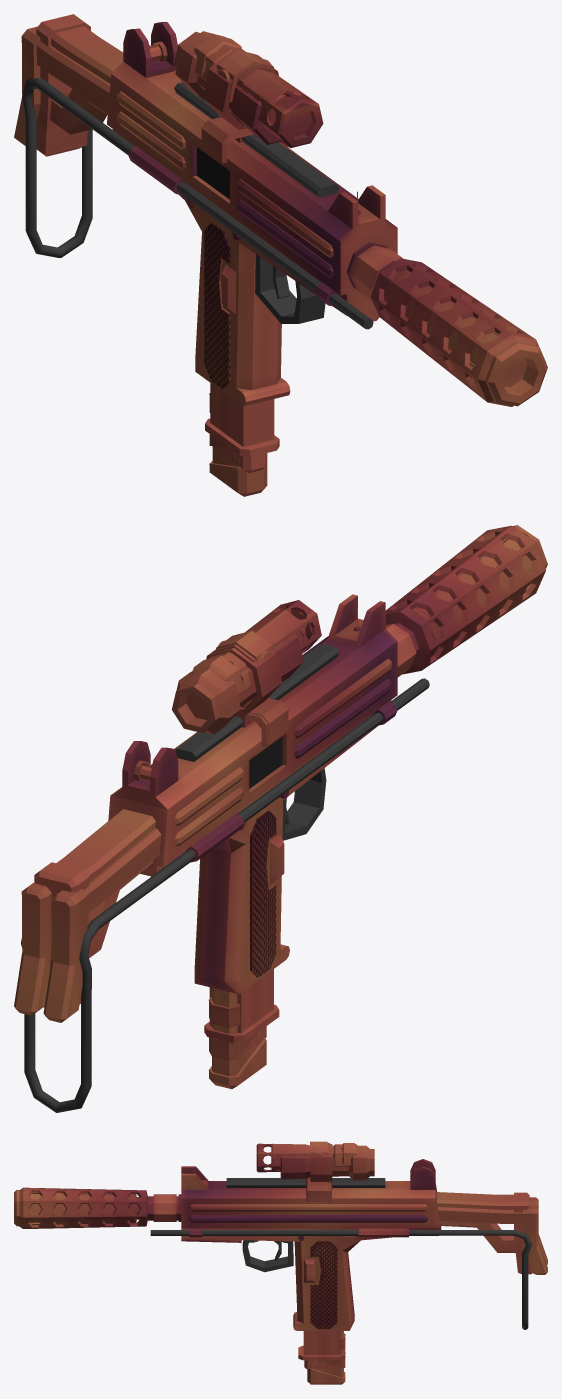
File: uzy gun1.fbx
The picture shows the model from 3 angles, top to bottom: view 1: azimuth 30°, elevation 25°; view 2: azimuth 150°, elevation 25°; view 3: azimuth 270°, elevation 25°; orthographic projection. The views are drawn at different scales.
Parts seen in each view (by area): view 1: Uzi_base, Uzi_2_Mufler3, Uzi_2_handle3, Uzi_2_handle1, Uzi_2_Aim2, Uzi_2_Aim1, Uzi_2_handle2, Uzi_2_patron1, Uzi_2_Mufler2, Uzi_2_Aim3, Uzi_2_patron2, Uzi_2_Mufler1 (+1 smaller); view 2: Uzi_base, Uzi_2_Mufler3, Uzi_2_handle2, Uzi_2_Aim1, Uzi_2_handle3, Uzi_2_handle1, Uzi_2_Aim2, Uzi_2_patron2, Uzi_2_Aim3, Uzi_2_patron1, Uzi_2_Mufler1, Uzi_2_Mufler2; view 3: Uzi_base, Uzi_2_Mufler3, Uzi_2_handle3, Uzi_2_handle2, Uzi_2_Aim1, Uzi_2_Aim2, Uzi_2_handle1, Uzi_2_patron1, Uzi_2_patron2, Uzi_2_Aim3, Uzi_2_Mufler1, Uzi_2_Mufler2.
Part boxes in pixels (x1,y1,x2,y2): Uzi_base: (107, 22, 403, 405); Uzi_2_Mufler3: (371, 258, 546, 406); Uzi_2_handle3: (36, 14, 123, 156); Uzi_2_handle1: (22, 78, 134, 257); Uzi_2_Aim2: (194, 34, 304, 162); Uzi_2_Aim1: (174, 31, 281, 144); Uzi_2_handle2: (14, 26, 110, 145); Uzi_2_patron1: (205, 383, 279, 456); Uzi_2_Mufler2: (384, 270, 547, 406); Uzi_2_Aim3: (194, 35, 323, 148); Uzi_2_patron2: (209, 393, 267, 496); Uzi_2_Mufler1: (384, 272, 475, 378); Uzi_base: (108, 594, 429, 994); Uzi_2_Mufler3: (385, 525, 545, 674); Uzi_2_handle2: (14, 828, 161, 1022); Uzi_2_Aim1: (172, 634, 303, 734); Uzi_2_handle3: (34, 809, 155, 1007); Uzi_2_handle1: (21, 849, 196, 1112); Uzi_2_Aim2: (193, 609, 302, 743); Uzi_2_patron2: (208, 988, 266, 1089); Uzi_2_Aim3: (192, 600, 321, 745); Uzi_2_patron1: (204, 969, 279, 1043); Uzi_2_Mufler1: (404, 554, 508, 656); Uzi_2_Mufler2: (397, 525, 547, 637); Uzi_base: (150, 1159, 441, 1330); Uzi_2_Mufler3: (19, 1187, 153, 1228); Uzi_2_handle3: (436, 1192, 531, 1274); Uzi_2_handle2: (437, 1197, 547, 1274); Uzi_2_Aim1: (280, 1144, 374, 1188); Uzi_2_Aim2: (271, 1141, 355, 1202); Uzi_2_handle1: (409, 1230, 532, 1329); Uzi_2_patron1: (298, 1331, 345, 1360); Uzi_2_patron2: (307, 1331, 345, 1384); Uzi_2_Aim3: (256, 1143, 357, 1202); Uzi_2_Mufler1: (54, 1193, 139, 1224); Uzi_2_Mufler2: (14, 1190, 139, 1226).
Size of the model in its own units: 0.5134 by 2.99 by 6.01.
